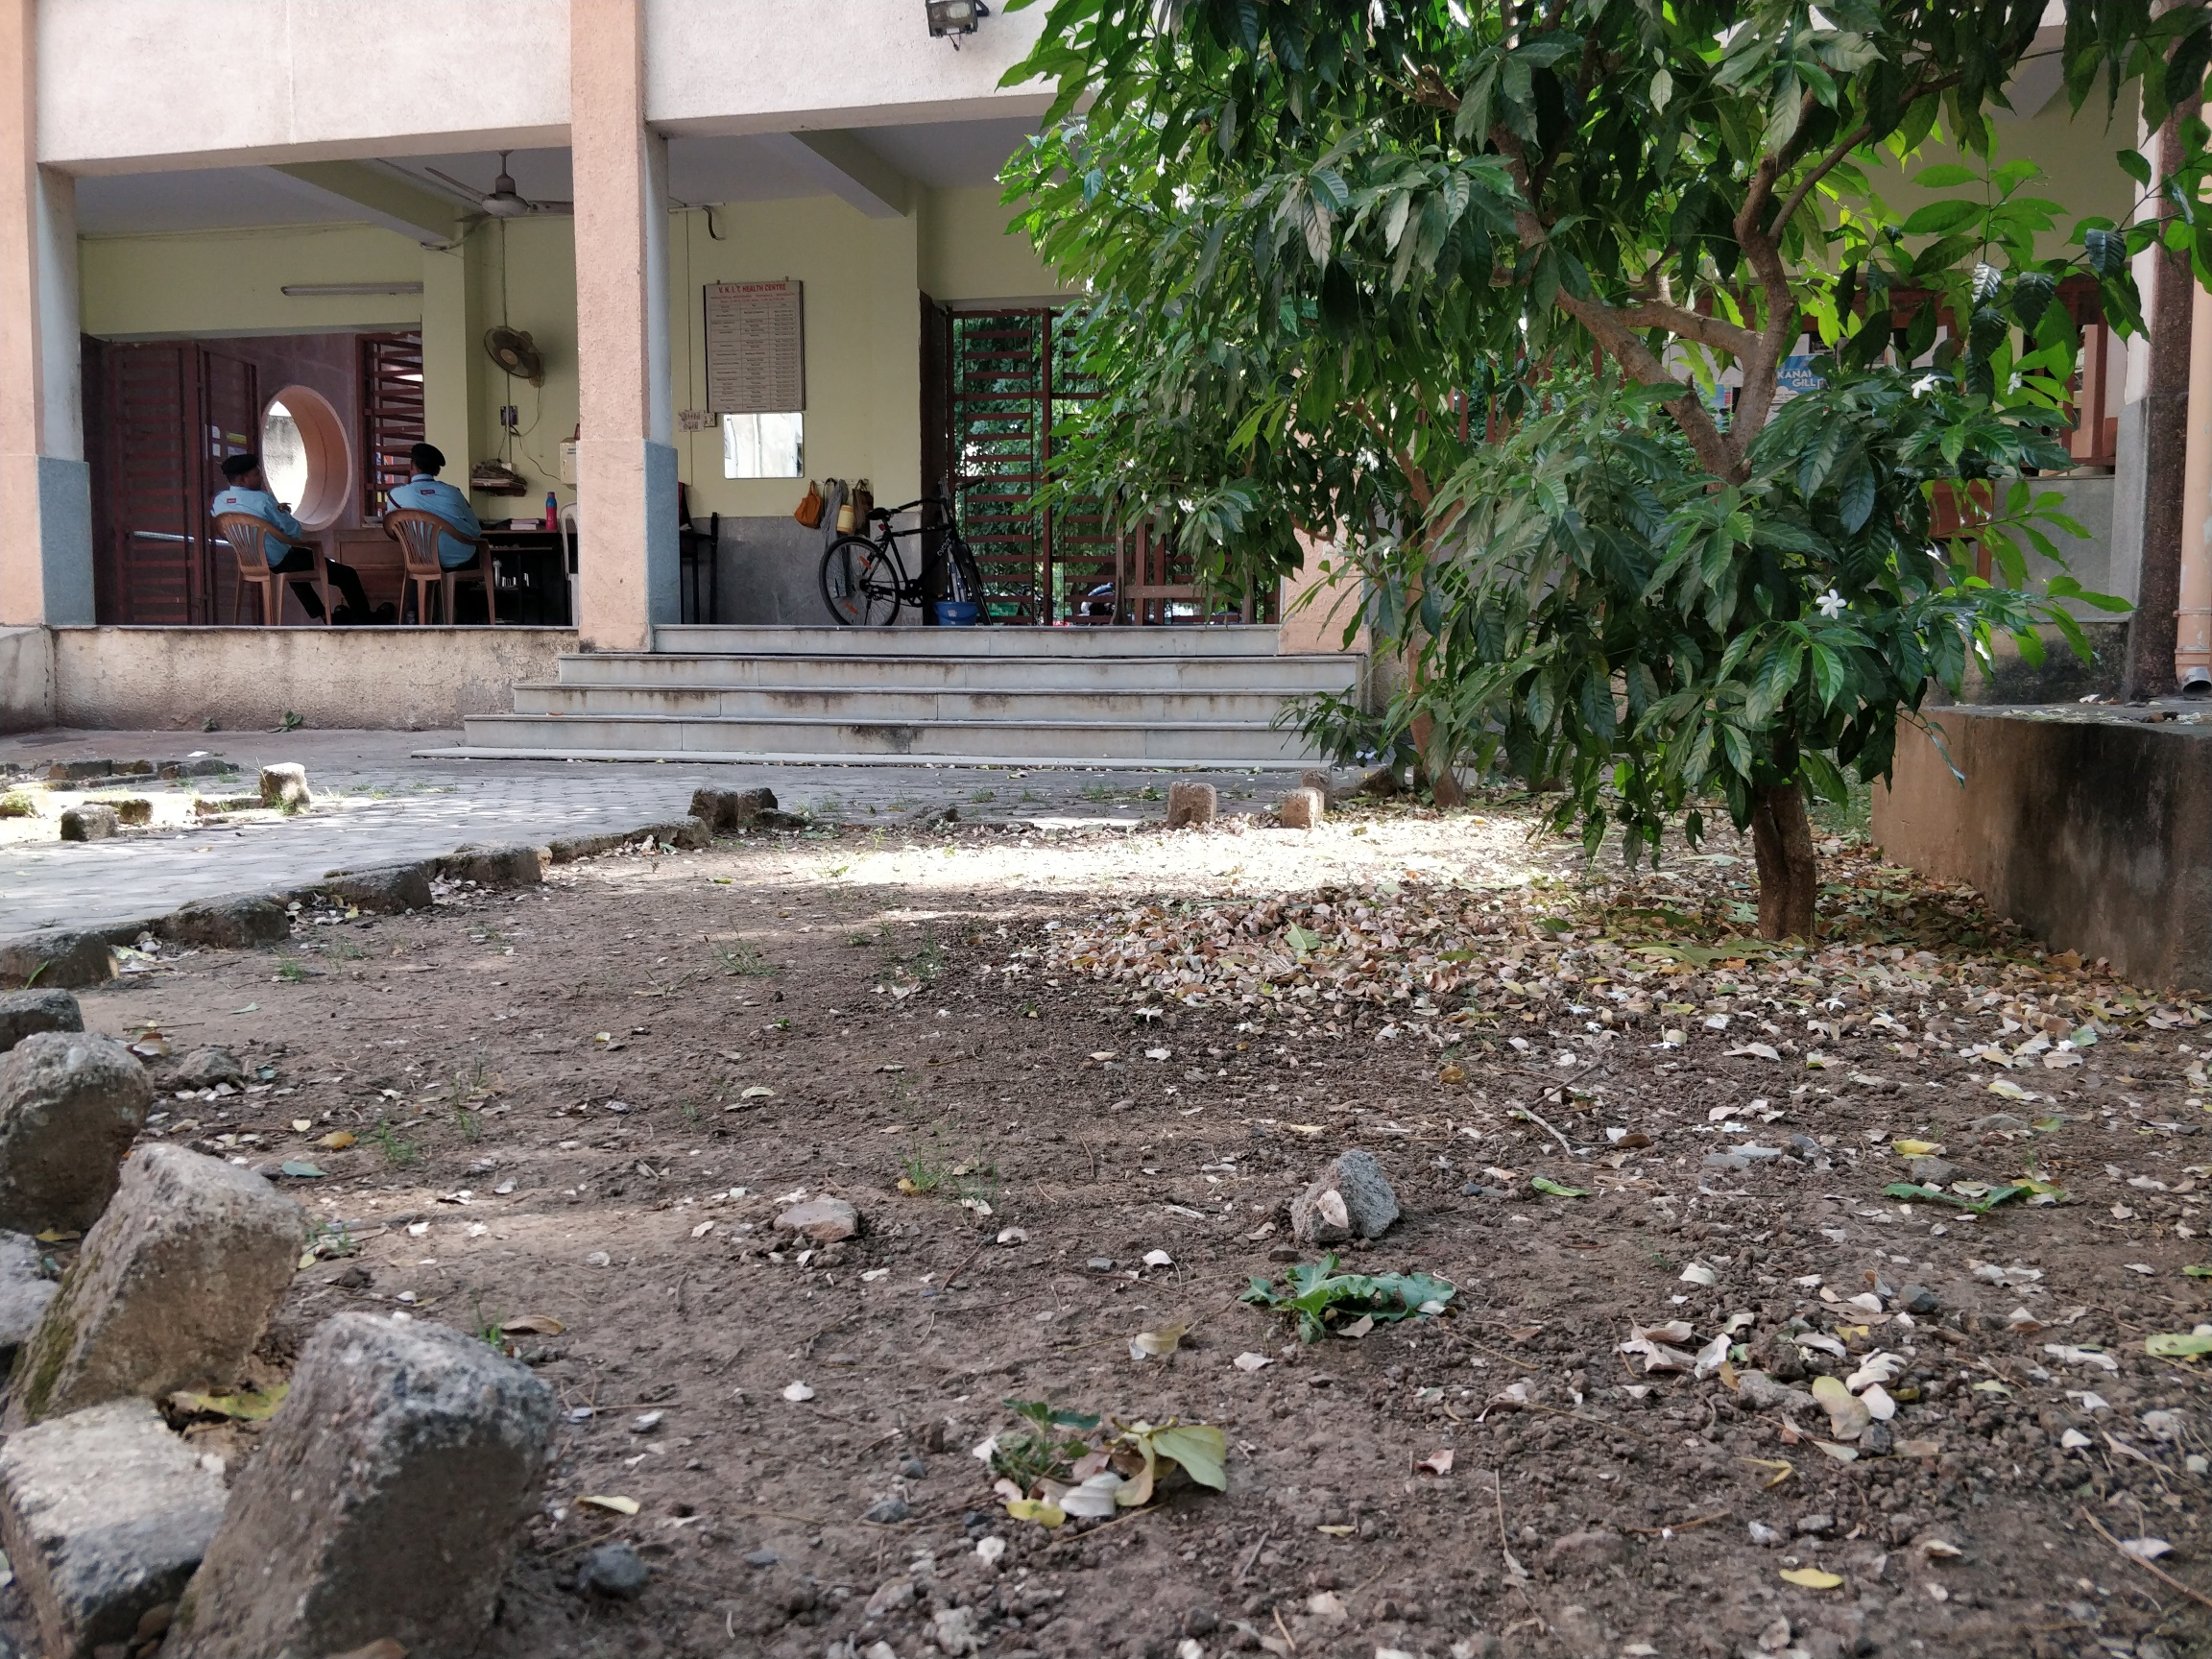stairs_up: (430, 624, 1360, 762)
